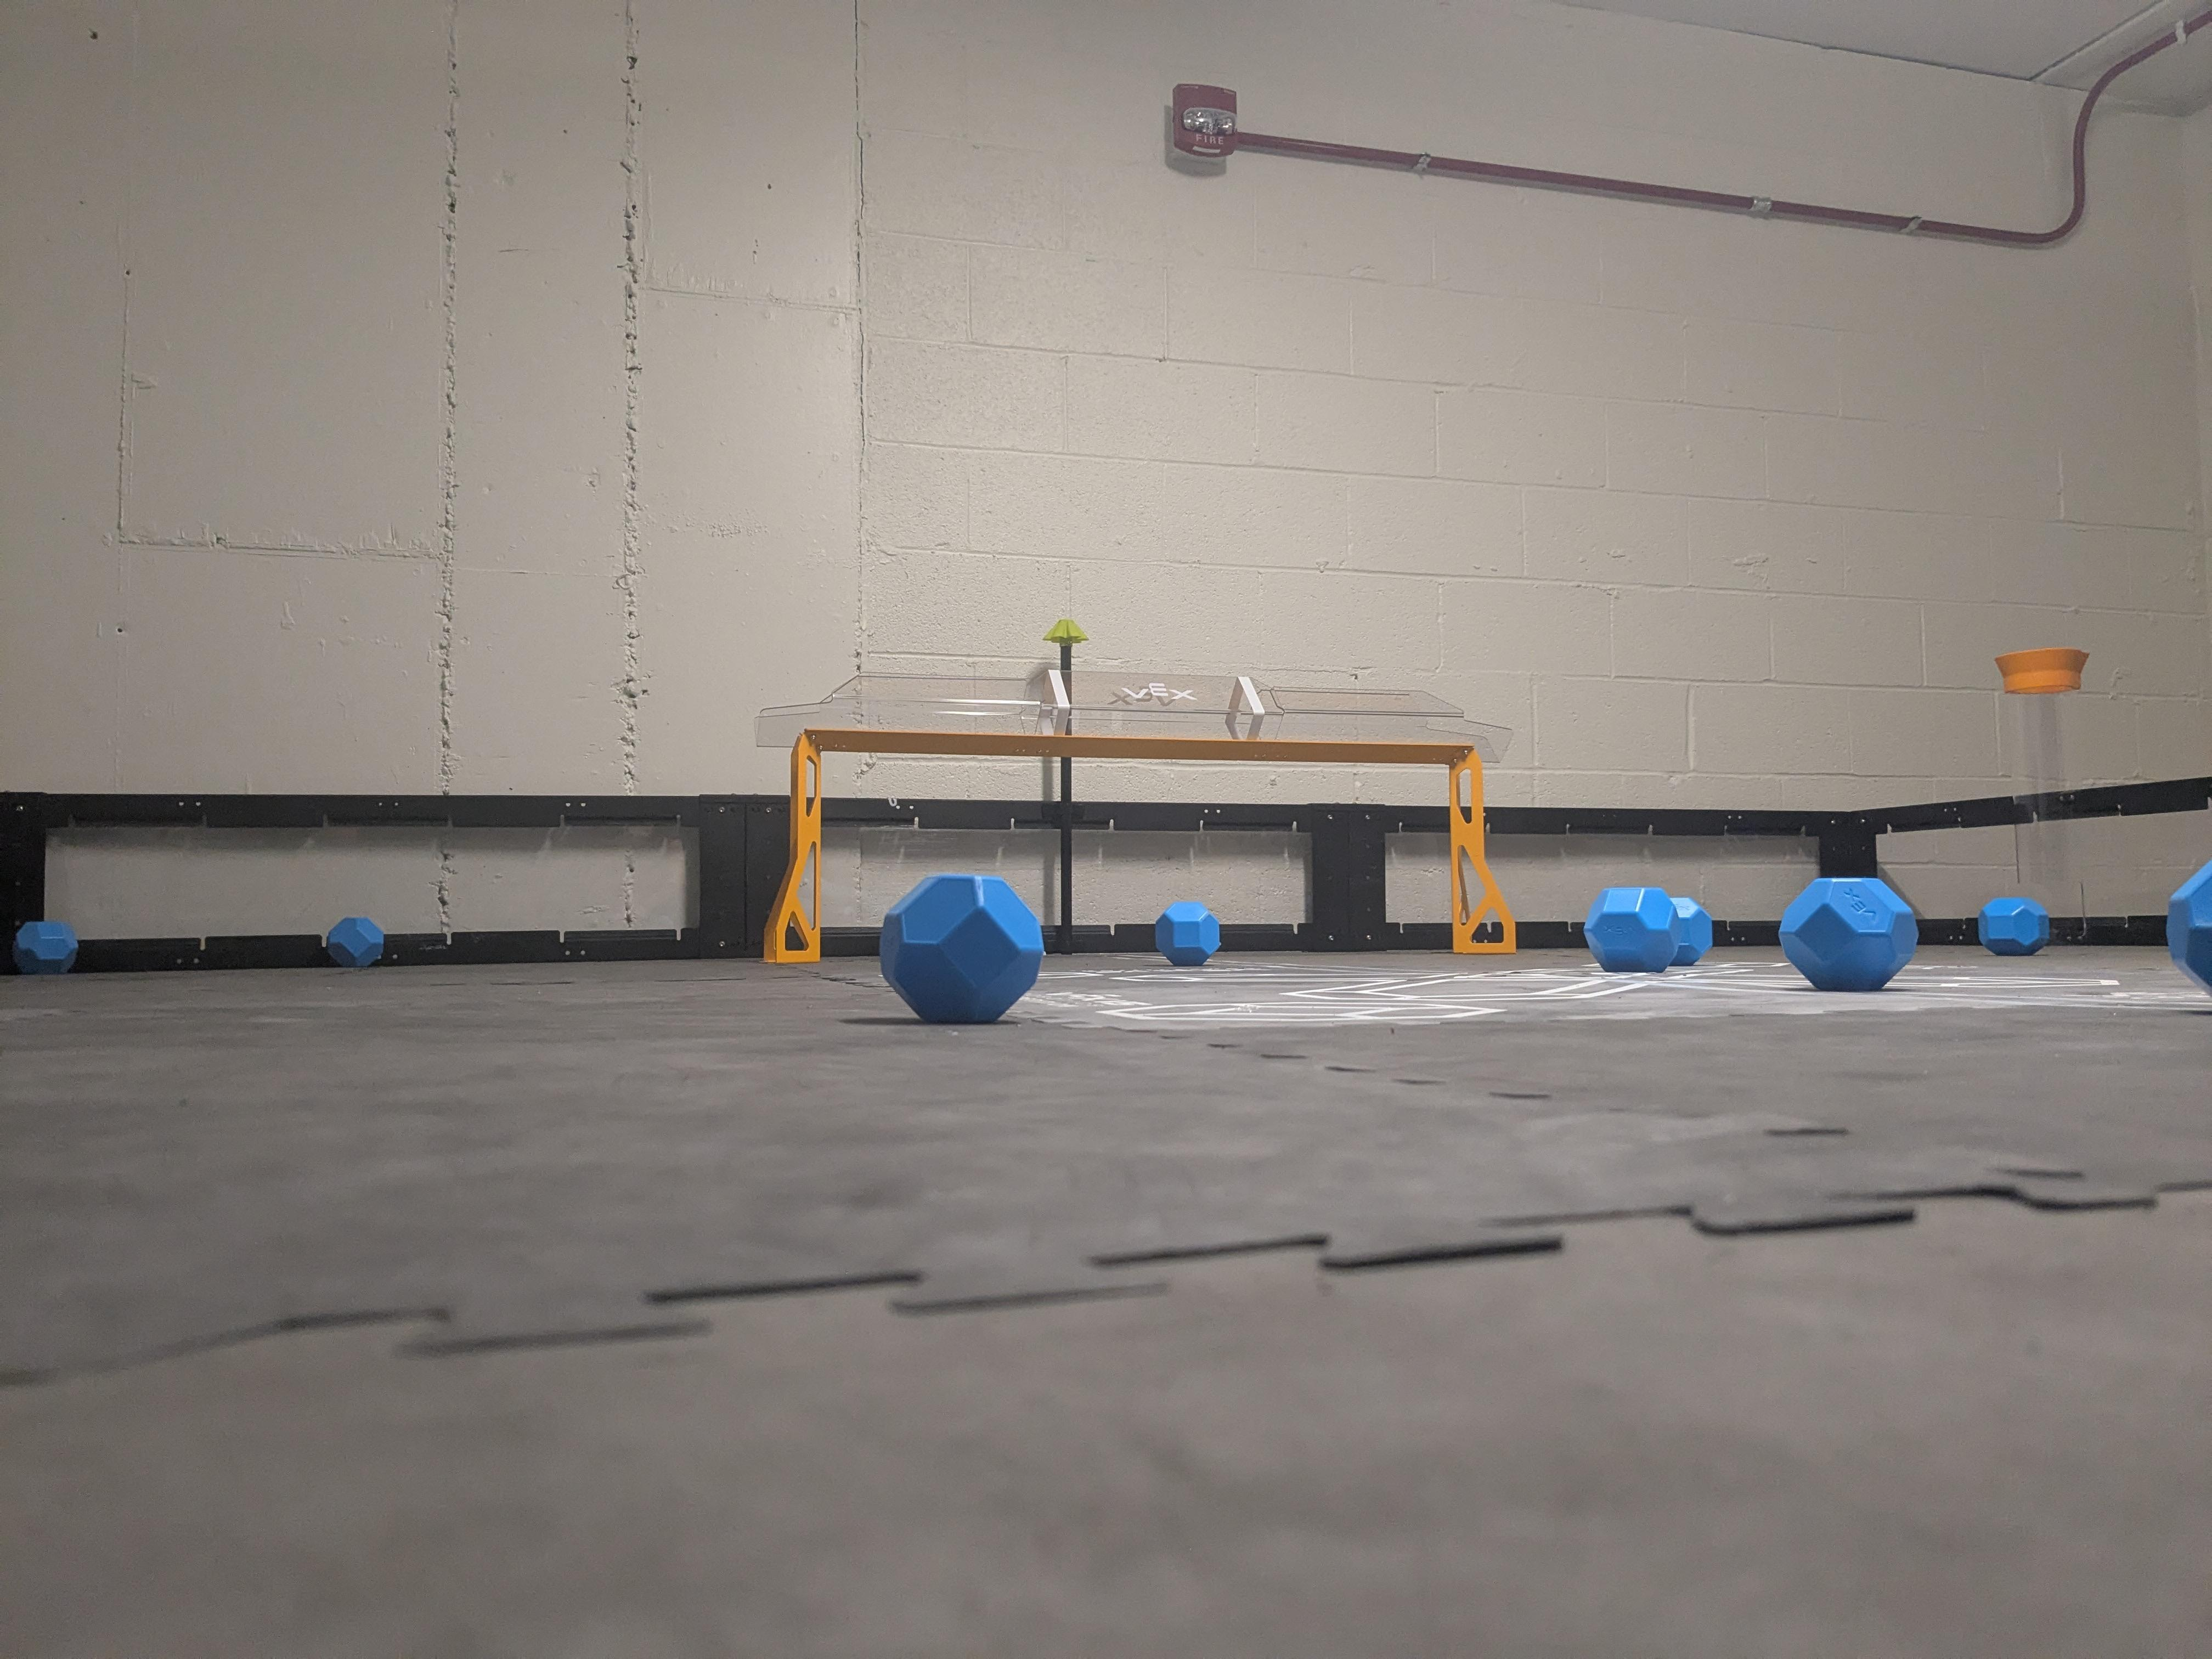Vex-Pieces-BLUE: (881, 873, 1043, 1021), (1778, 878, 1914, 992), (1585, 885, 1710, 969), (2160, 857, 2207, 992), (1155, 901, 1219, 965), (1977, 899, 2041, 951), (14, 920, 77, 972), (324, 917, 383, 967)
